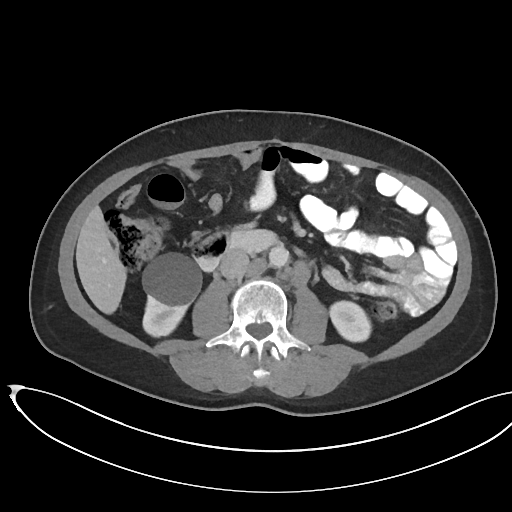Lesion: (136, 249, 205, 309)
